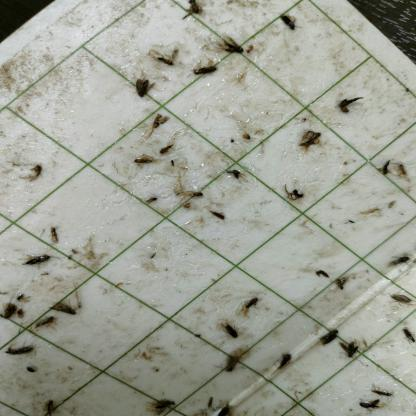prays_oleae: (276, 8, 304, 48), (152, 41, 180, 75), (218, 32, 244, 65), (316, 320, 342, 352), (50, 294, 77, 324), (190, 59, 217, 87), (388, 288, 415, 315), (294, 124, 320, 151), (339, 332, 364, 360), (22, 250, 52, 273), (33, 312, 56, 339), (3, 342, 37, 360), (132, 74, 152, 104), (206, 202, 229, 228), (150, 390, 177, 412), (219, 318, 240, 346), (223, 160, 243, 188), (242, 286, 259, 316), (223, 350, 240, 380), (277, 352, 295, 380), (0, 296, 17, 325), (180, 2, 202, 24), (357, 395, 381, 415), (378, 158, 394, 188), (148, 110, 169, 132), (400, 321, 416, 348), (131, 153, 155, 171), (158, 141, 174, 165), (144, 190, 160, 214), (188, 184, 204, 205), (332, 274, 347, 296), (370, 386, 394, 398), (42, 397, 58, 413), (216, 404, 236, 414)
